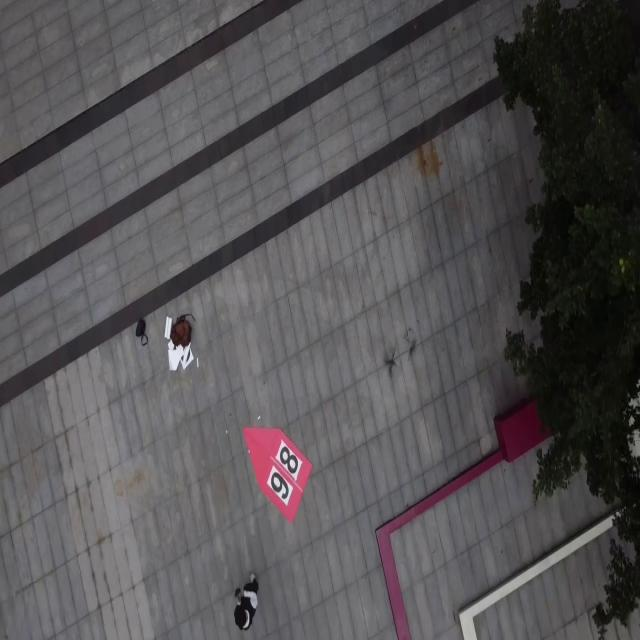-sign-: (242, 424, 312, 523)
